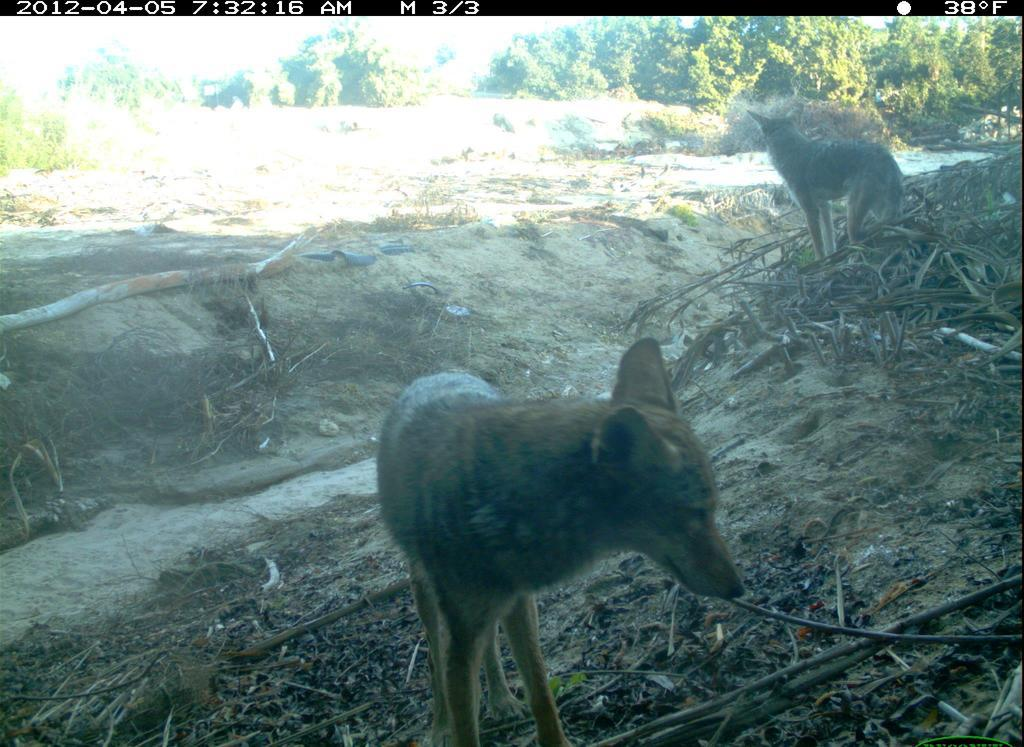coyote: (349, 329, 752, 747), (743, 95, 920, 280)
